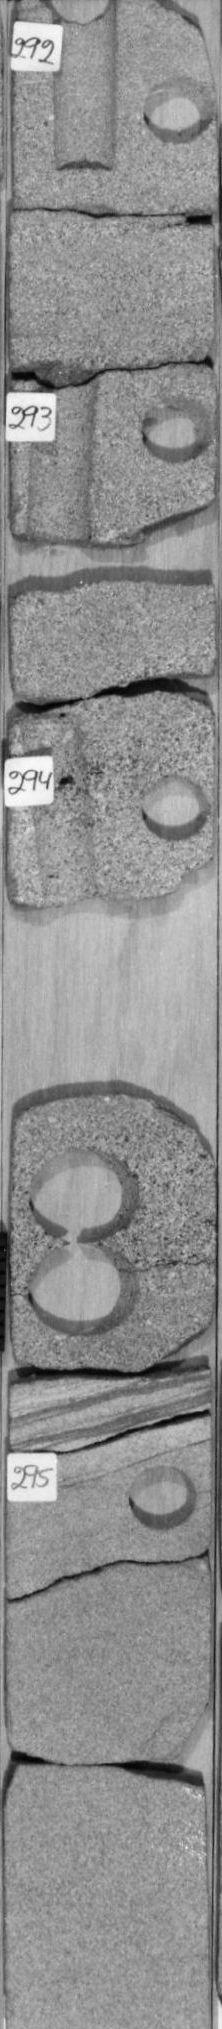hplug: (134, 386, 217, 471), (134, 71, 222, 144), (132, 767, 210, 848), (123, 1461, 205, 1536)
scal: (22, 1240, 142, 1341), (25, 1146, 145, 1242)
vplug: (19, 369, 107, 543), (30, 719, 108, 908), (46, 1, 123, 177)
